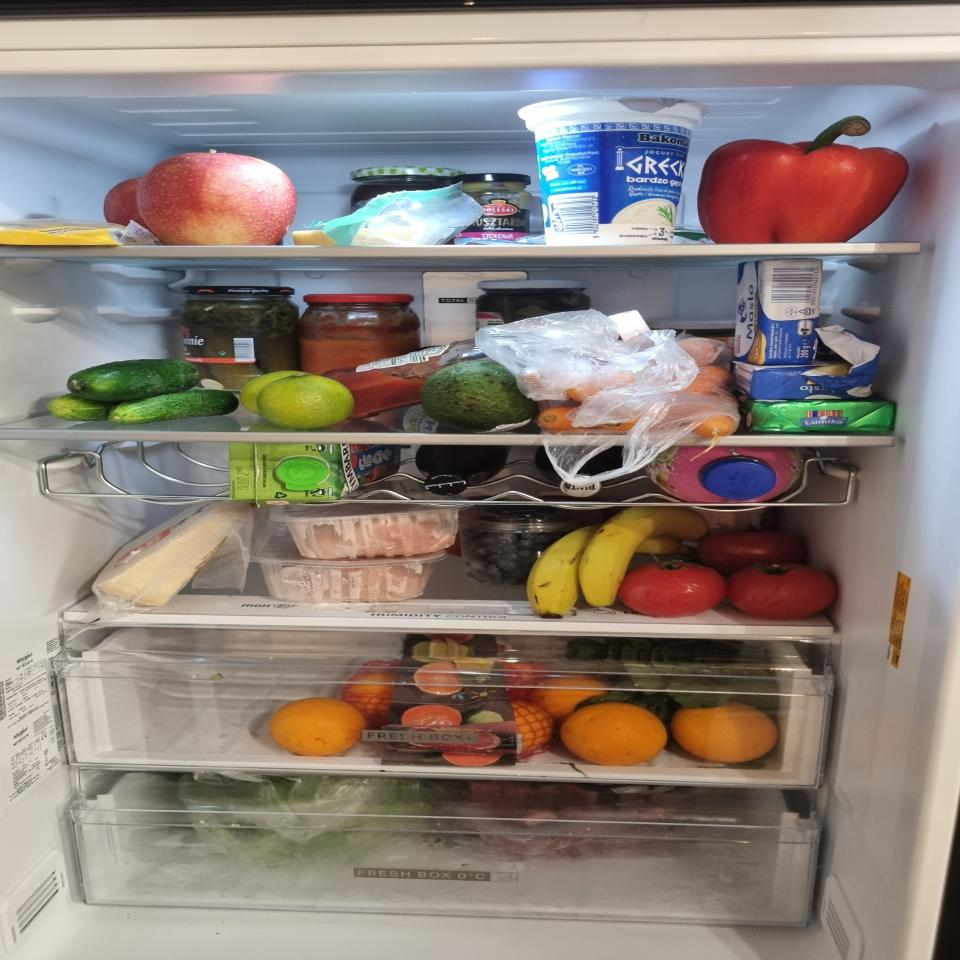Aguacate: (420, 361, 535, 433)
Carne pollo: (268, 503, 474, 559), (252, 551, 446, 603)
Lechuga/Endivia: (177, 769, 447, 865)
Mantequilla: (732, 324, 880, 400), (733, 258, 823, 366), (742, 400, 896, 435)
Manzana: (136, 148, 299, 245)
Pepino: (48, 358, 238, 425)
Plátano: (526, 506, 708, 620)
Queso: (94, 499, 252, 607), (0, 220, 155, 246), (292, 228, 420, 246)
Tomate: (621, 554, 726, 617), (728, 562, 839, 620), (698, 528, 804, 572)
Yogur: (516, 94, 710, 247)
Zanahoria: (523, 337, 740, 437)
bell pepper: (696, 116, 912, 244)
blueberries: (456, 504, 591, 589)
ketchup: (323, 310, 651, 420)
lime: (257, 373, 354, 429), (240, 370, 303, 416)
mustard: (453, 173, 532, 245)
orange: (343, 632, 552, 766), (560, 702, 666, 767), (671, 701, 777, 763), (269, 696, 367, 756), (528, 674, 610, 718)
